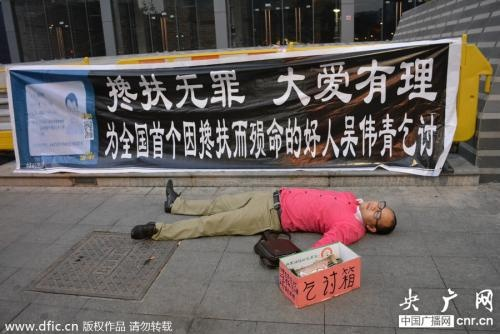falling: (136, 175, 399, 253)
